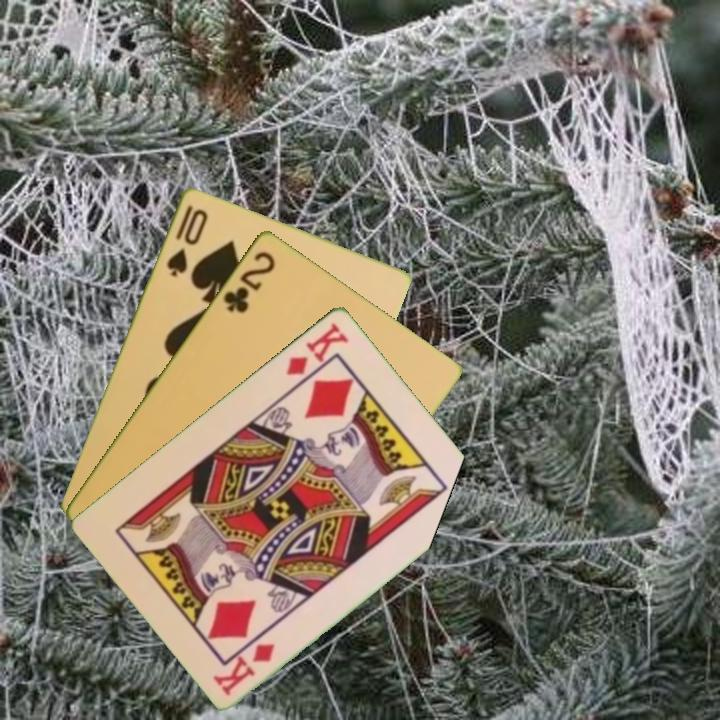10s: (163, 201, 211, 280)
2c: (219, 247, 278, 315)
Kd: (282, 318, 352, 378), (210, 639, 278, 698)
